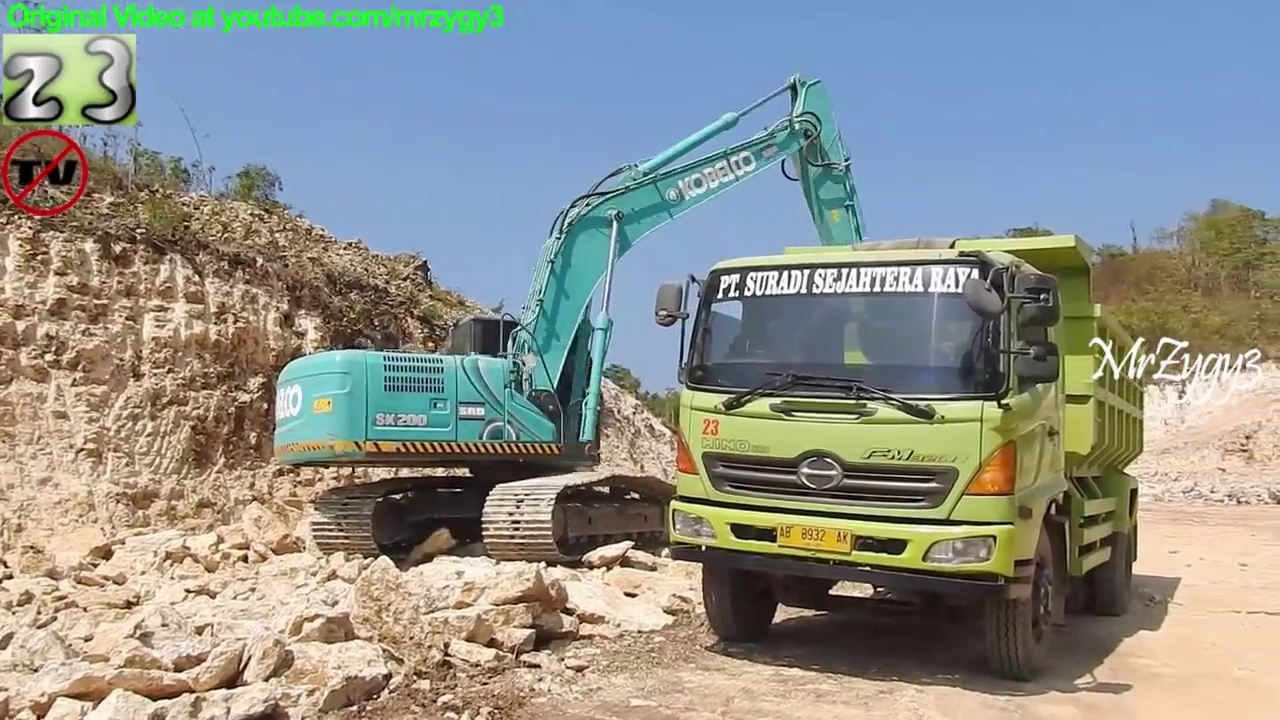excavator: (264, 67, 924, 576)
truck: (651, 224, 1153, 683)
